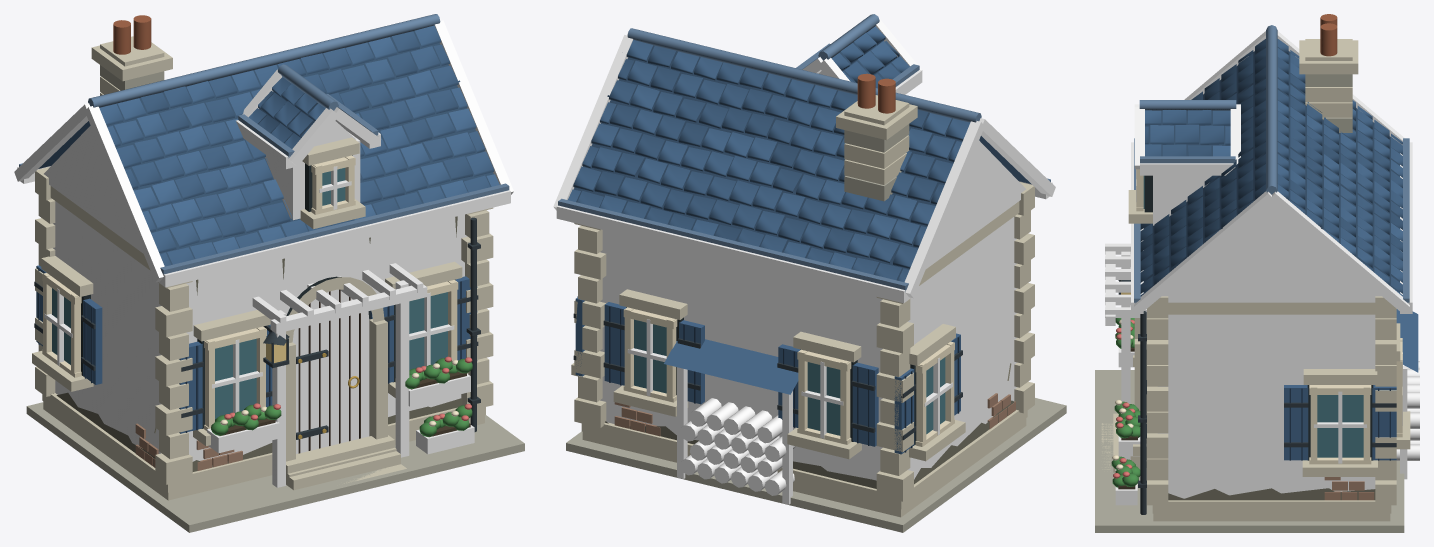
The model's file is garden_house.glb.
3 views of the same model, side by side, from view 1: azimuth 30°, elevation 25°; view 2: azimuth 150°, elevation 25°; view 3: azimuth 270°, elevation 25° (orthographic). The views are drawn at different scales.
Parts seen in each view (by area): view 1: SourceMesh_00056, SourceMesh_00005, SourceMesh_00000, SourceMesh_00106, SourceMesh_00047, SourceMesh_00048, SourceMesh_00050, SourceMesh_00006, SourceMesh_00049, SourceMesh_00099, SourceMesh_00052, SourceMesh_00310 (+52 smaller); view 2: SourceMesh_00056, SourceMesh_00005, SourceMesh_00044, SourceMesh_00000, SourceMesh_00045, SourceMesh_00050, SourceMesh_00006, SourceMesh_00374, SourceMesh_00046, SourceMesh_00001, SourceMesh_00051, SourceMesh_00099 (+49 smaller); view 3: SourceMesh_00005, SourceMesh_00056, SourceMesh_00053, SourceMesh_00000, SourceMesh_00099, SourceMesh_00044, SourceMesh_00006, SourceMesh_00007, SourceMesh_00214, SourceMesh_00054, SourceMesh_00055, SourceMesh_00047 (+56 smaller).
Boxes of the visible parts, x1,y1,x2,y2 form: SourceMesh_00056: (99,25,499,266); SourceMesh_00005: (53,201,467,461); SourceMesh_00000: (26,402,524,532); SourceMesh_00106: (292,289,369,453); SourceMesh_00047: (107,31,493,264); SourceMesh_00048: (158,190,510,287); SourceMesh_00050: (44,126,143,253); SourceMesh_00006: (42,393,485,492); SourceMesh_00049: (160,183,509,274); SourceMesh_00099: (249,77,325,148); SourceMesh_00052: (85,106,164,282); SourceMesh_00310: (395,280,409,457); SourceMesh_00056: (568,40,969,282); SourceMesh_00005: (600,217,1016,480); SourceMesh_00044: (573,45,962,280); SourceMesh_00000: (566,398,1066,532); SourceMesh_00045: (556,205,910,303); SourceMesh_00050: (926,140,1025,268); SourceMesh_00006: (581,410,1027,509); SourceMesh_00374: (664,339,798,394); SourceMesh_00046: (558,198,908,291); SourceMesh_00001: (582,418,1026,517); SourceMesh_00051: (904,121,983,298); SourceMesh_00099: (832,26,909,87); SourceMesh_00005: (1158,314,1375,498); SourceMesh_00056: (1140,39,1402,296); SourceMesh_00053: (1162,203,1381,302); SourceMesh_00000: (1095,370,1404,532); SourceMesh_00099: (1145,110,1230,156); SourceMesh_00044: (1277,47,1399,292); SourceMesh_00006: (1152,500,1391,513); SourceMesh_00007: (1168,302,1375,314); SourceMesh_00214: (1317,395,1363,457); SourceMesh_00054: (1269,191,1409,313); SourceMesh_00055: (1134,191,1274,313); SourceMesh_00047: (1143,47,1265,292).
Bounding box in the file's own units: 5.29 × 5.78 × 4.41.
